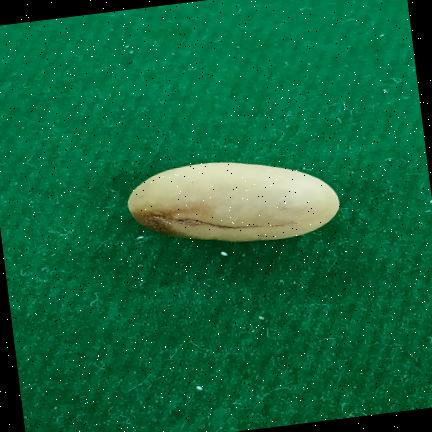parchment: (127, 162, 339, 241)
